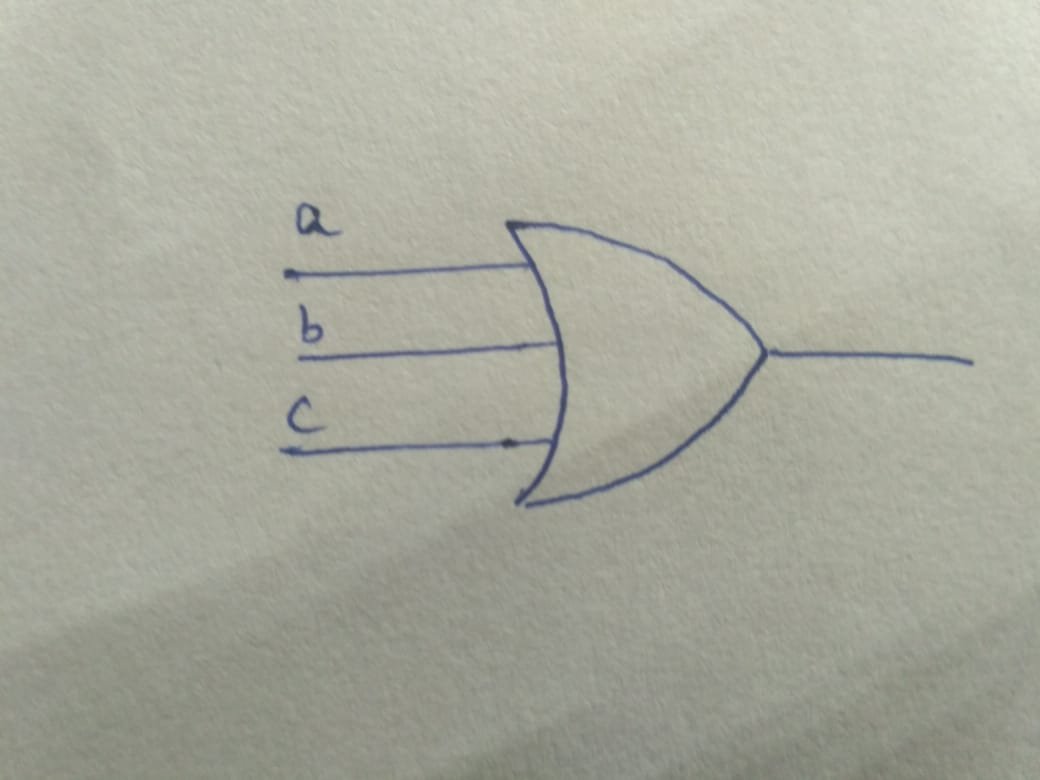or: (477, 178, 796, 552)
